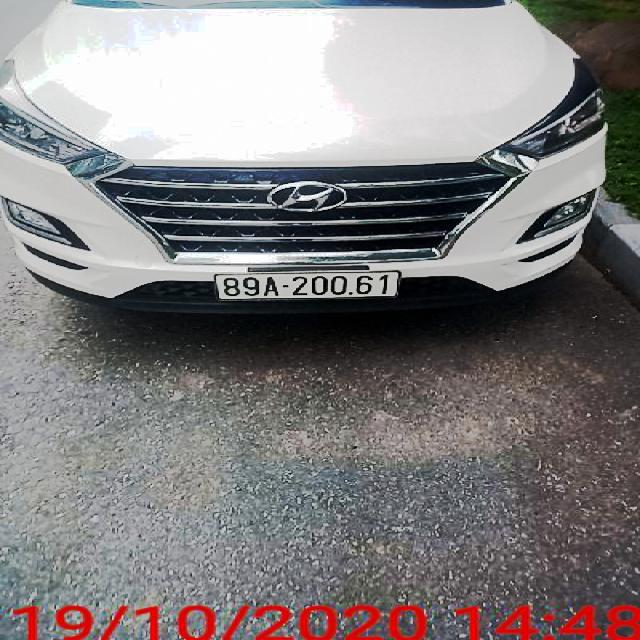license_plate: (216, 272, 402, 301)
